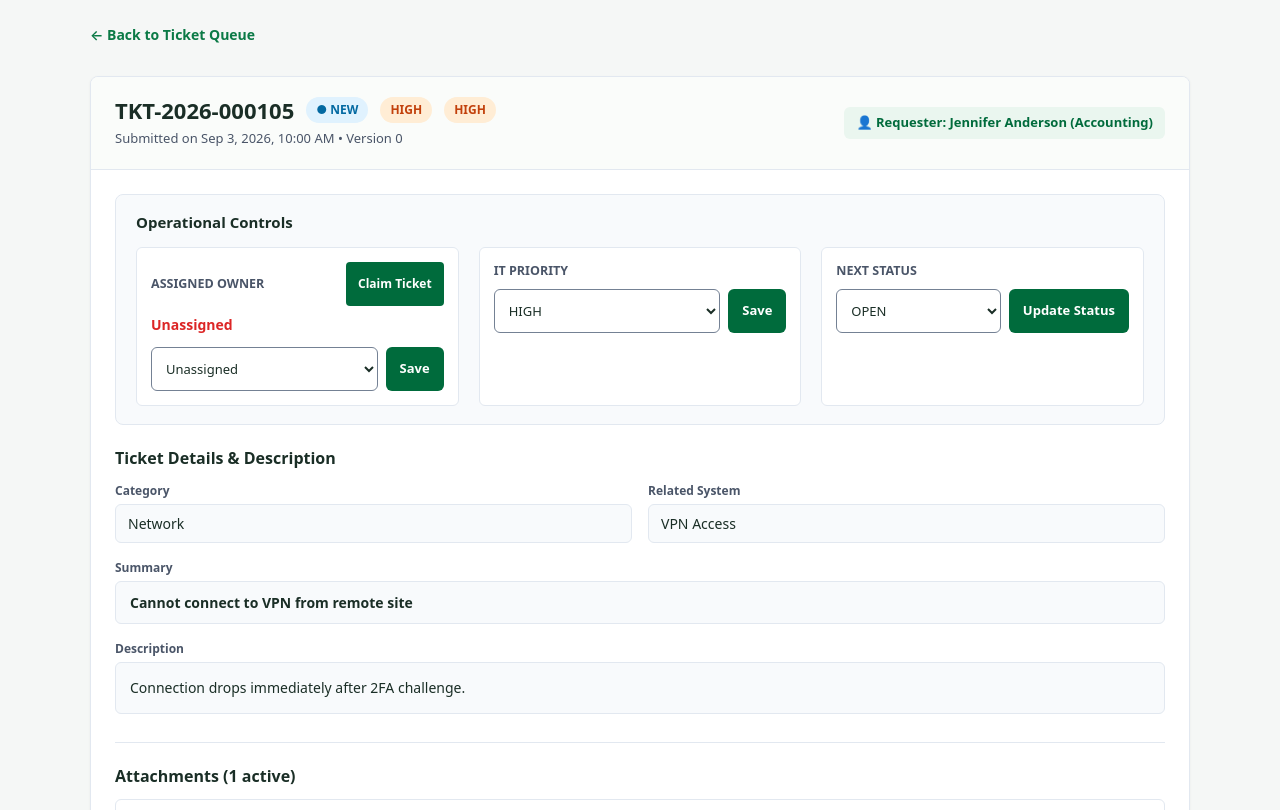
UI-05, UI-06, UI-09: Staff Ticket Detail Operations Component › handles 409 conflict error on status mutation and allows reloading ticket
Select "OPEN" in the dropdown with test id "select-status": (919, 311) 836,289 -> 1001,333
Click the button with test id "btn-save-status": (1069, 311) 1009,289 -> 1129,333
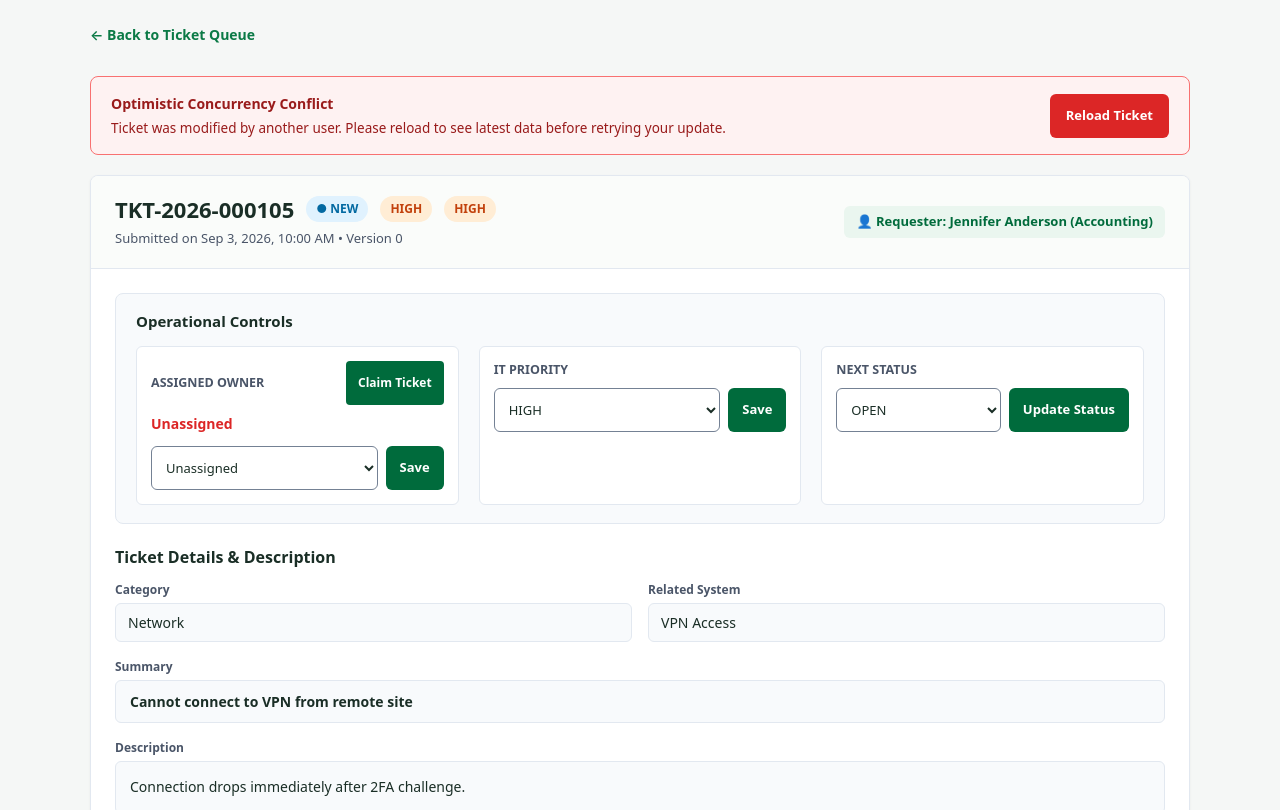
Result: the element with test id "conflict-banner" is shown at 90,76 -> 1190,155
Click the button with test id "btn-reload-conflict": (1109, 116) 1050,94 -> 1169,138
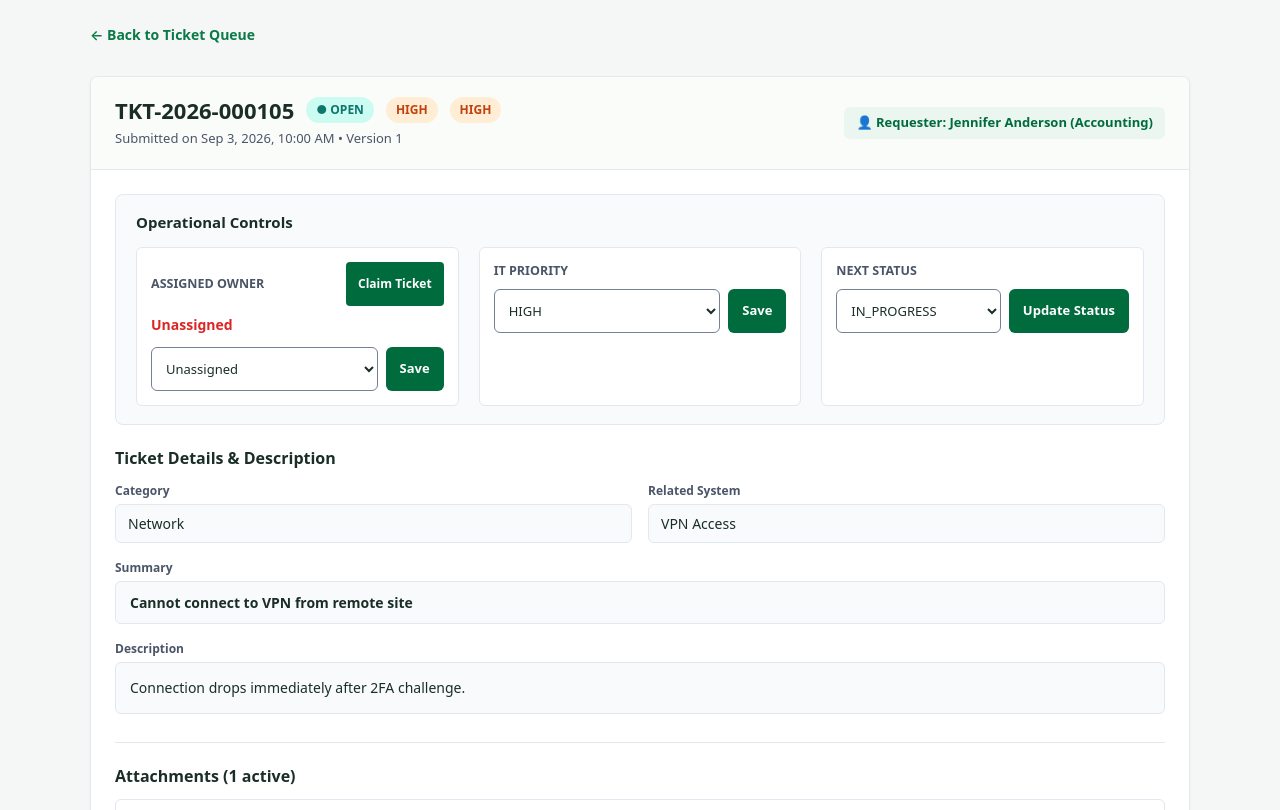
Result: the element with test id "conflict-banner" is gone
Result: the text with test id "status-badge" shows "OPEN" at 330,101 -> 364,118
